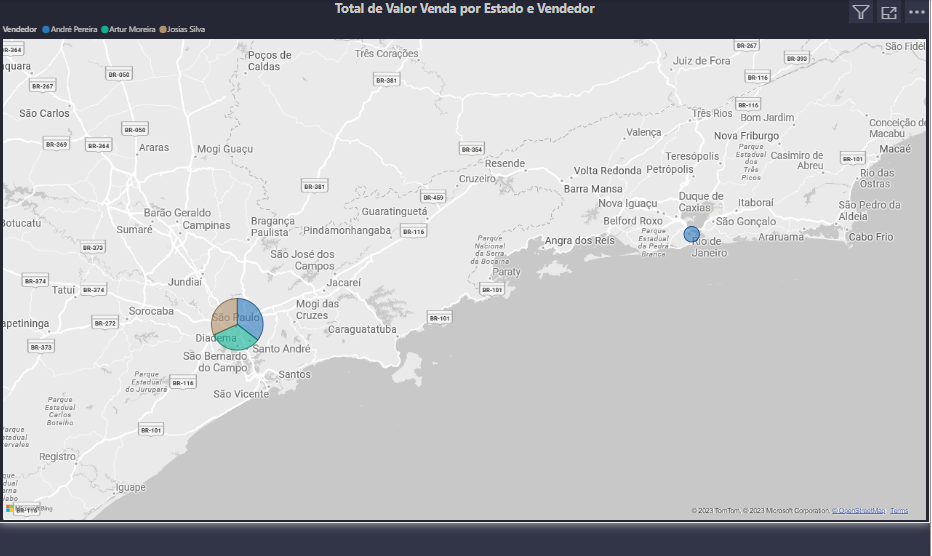

What the dashboard file says about the page in this screenshot:
{"tool":"powerbi","page":{"name":"Perfomance de Vendedores Por Região","canvas":[1280,720],"ordinal":4},"visuals":[{"type":"map","fields":{"Category":["Dados_Comerciais.Estado"],"Series":["Dados_Comerciais.Vendedor"],"Size":["Sum(Dados_Comerciais.ValorVenda)"]},"box":[0,0,1280,720.4],"z":0}]}

Visuals, with their boxes on the page's 1280x720 design canvas (x1, y1, x2, y2). These are canvas units, not pixel positions in the 932x556 screenshot, which may show the page scaled, cropped or inside an application window:
map - Dados_Comerciais.Estado x Dados_Comerciais.Vendedor: (left=0, top=0, right=1280, bottom=720)
